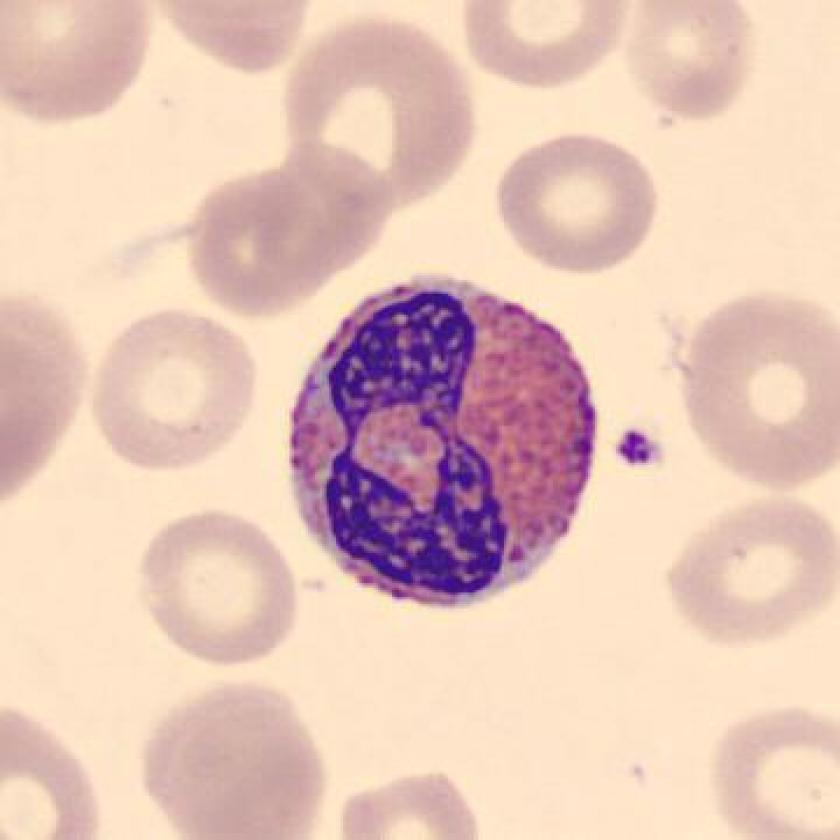eosinophil: (277, 258, 613, 621)
